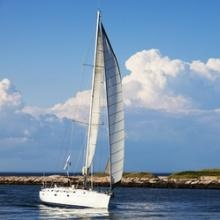fanchuan: (36, 10, 132, 208)
